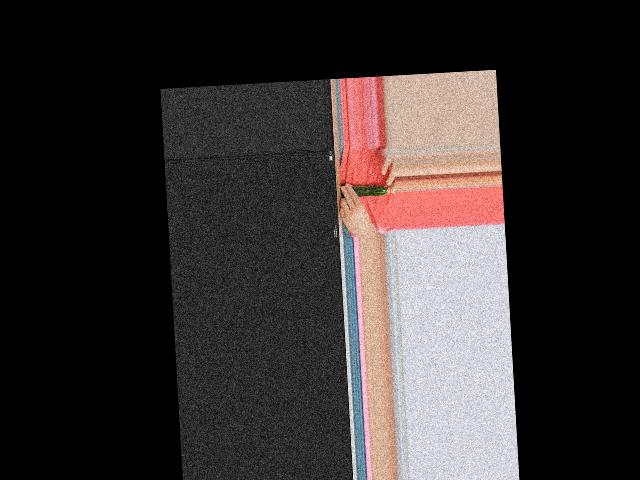cucumber: (351, 184, 387, 197)
